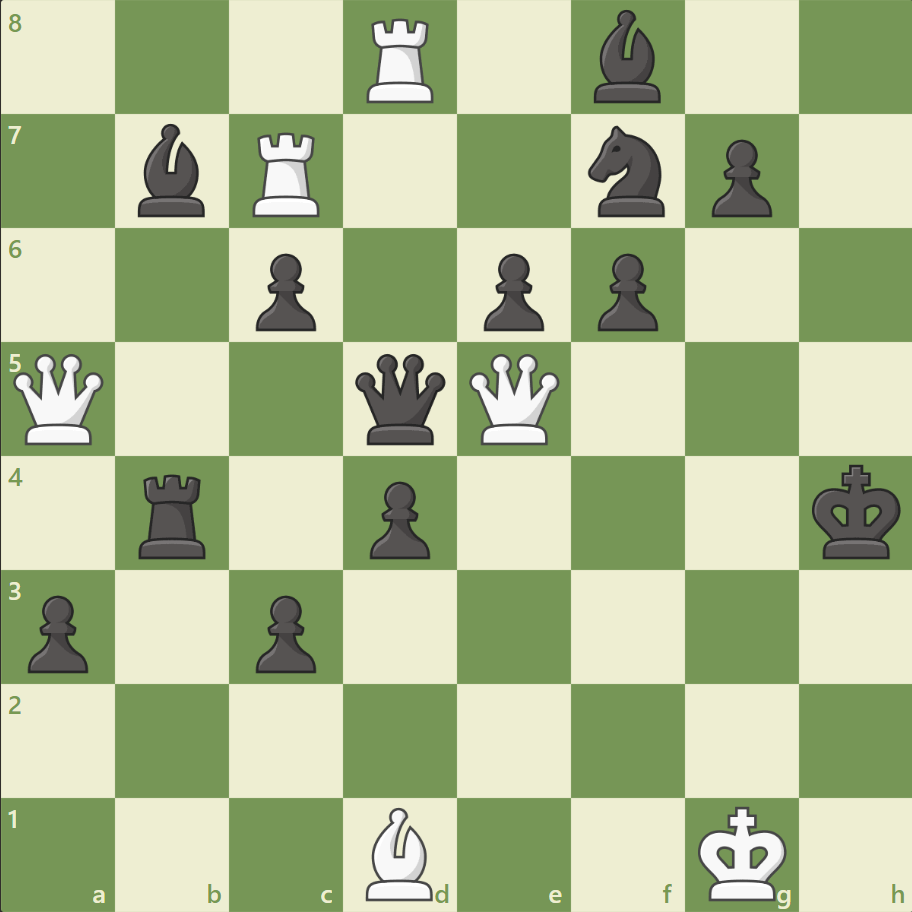B: (358, 801, 442, 904)
K: (692, 798, 792, 906)
Q: (10, 349, 109, 449), (464, 349, 563, 449)
R: (246, 125, 329, 222), (360, 12, 442, 109)
b: (585, 6, 669, 109), (131, 120, 215, 222)
k: (806, 458, 906, 566)
n: (579, 121, 676, 223)
p: (701, 132, 776, 223), (247, 246, 322, 337), (474, 246, 549, 337), (20, 586, 95, 677), (247, 586, 322, 677), (588, 246, 662, 337), (361, 473, 435, 564)
q: (351, 349, 450, 449)
r: (133, 466, 215, 563)
